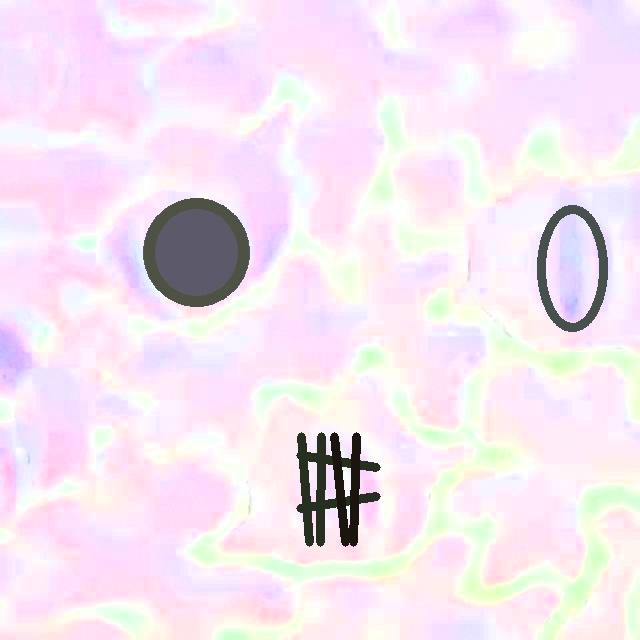open: (143, 198, 250, 306), (296, 432, 379, 545), (536, 204, 609, 332)
